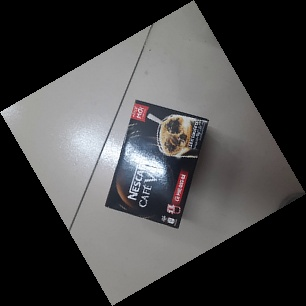CF Viet: (104, 99, 208, 230)
